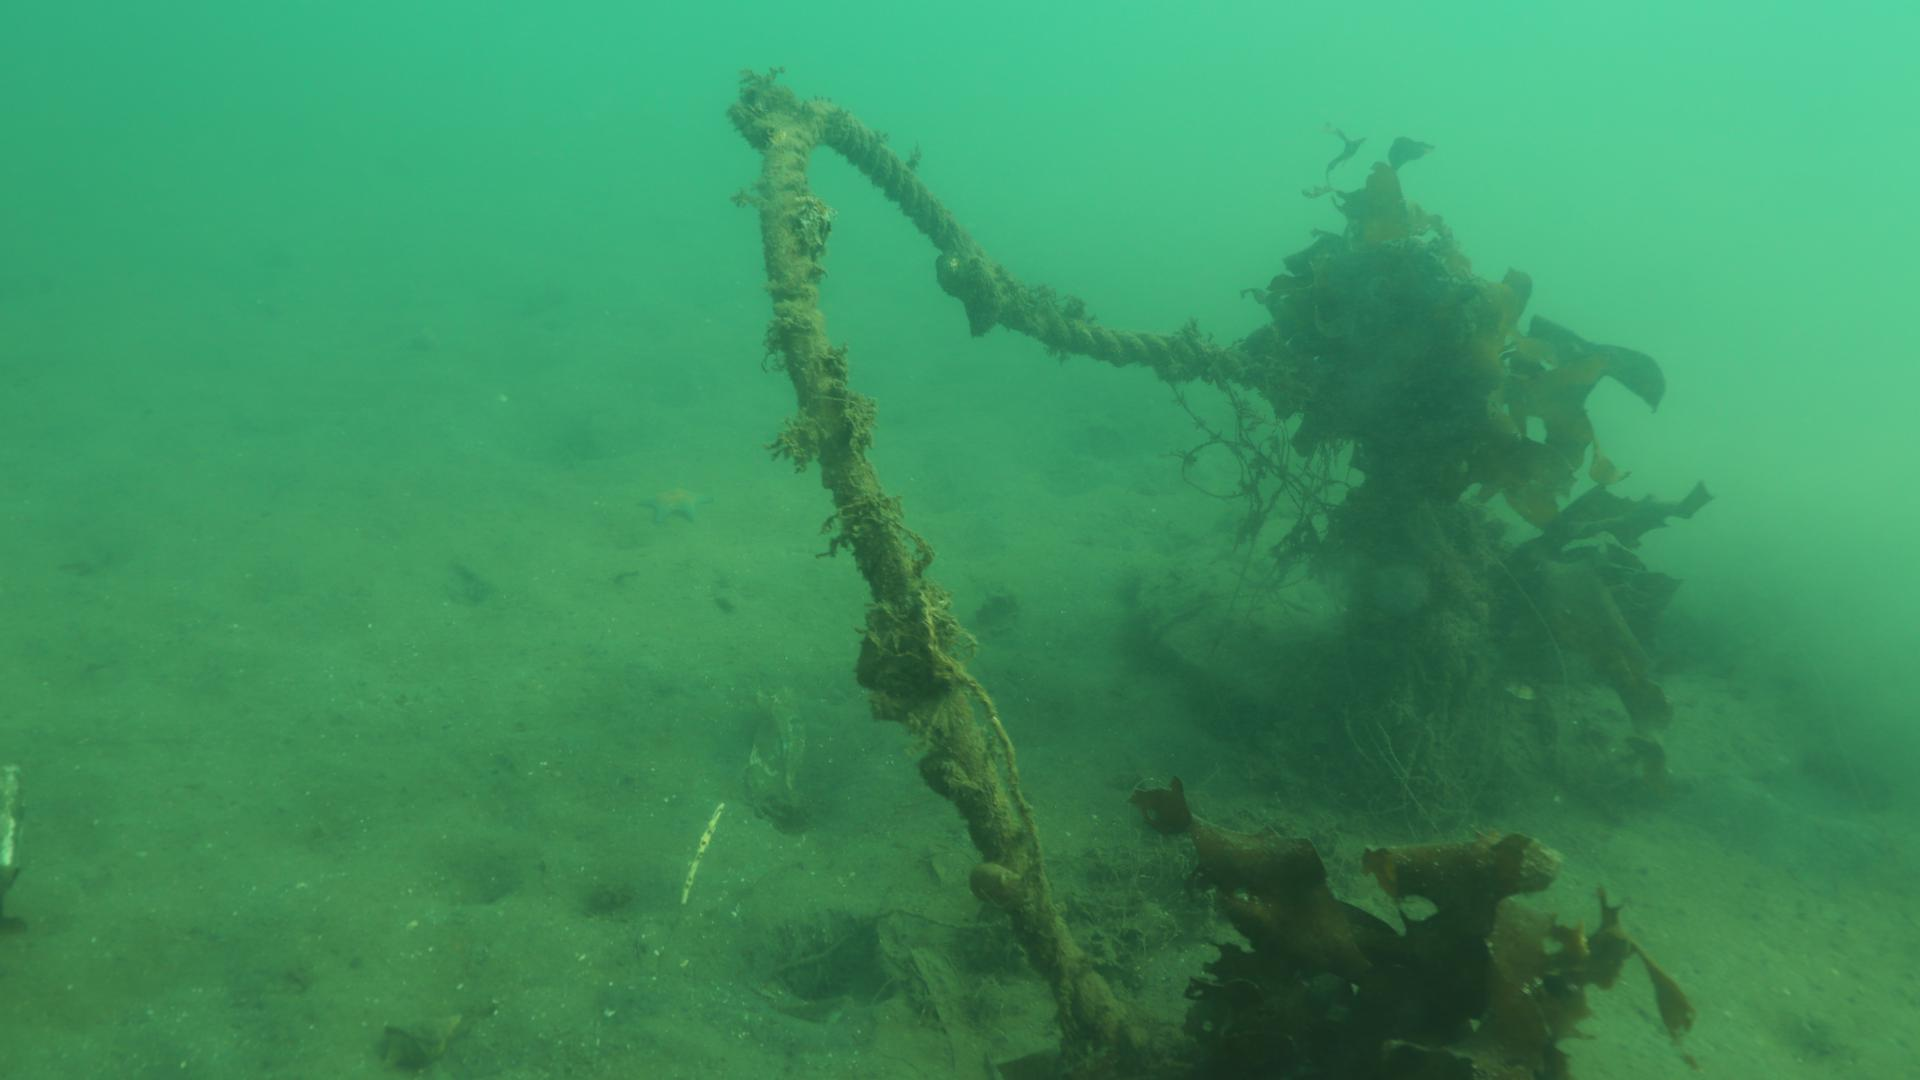rope: (756, 96, 1193, 1044)
